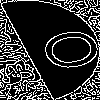O: (25, 25, 100, 78)
